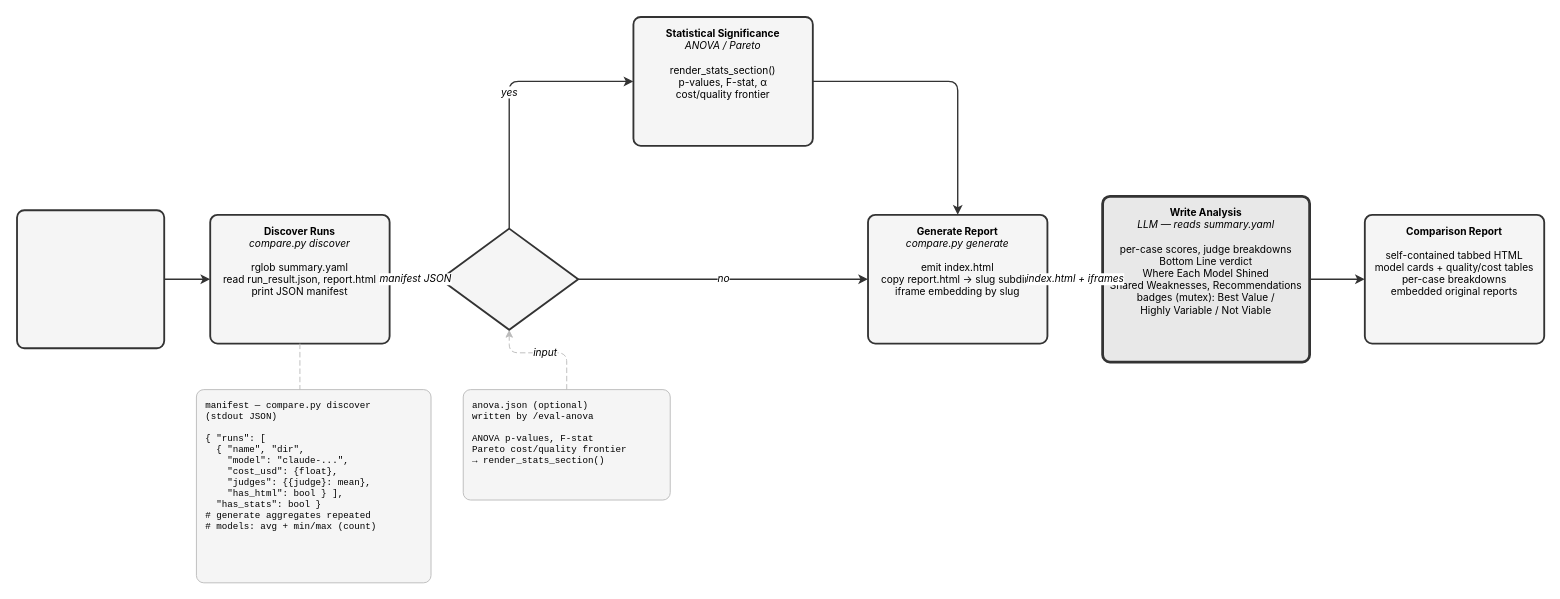
Image size: 1560x599. Some labels were removed from this diagram. Each missing label, with the box of its shape:
/eval-compare {input-dir} --output {path} --title {text} --overview {text}: (16, 209, 165, 349)
anova.json? has_stats: (439, 227, 579, 330)
